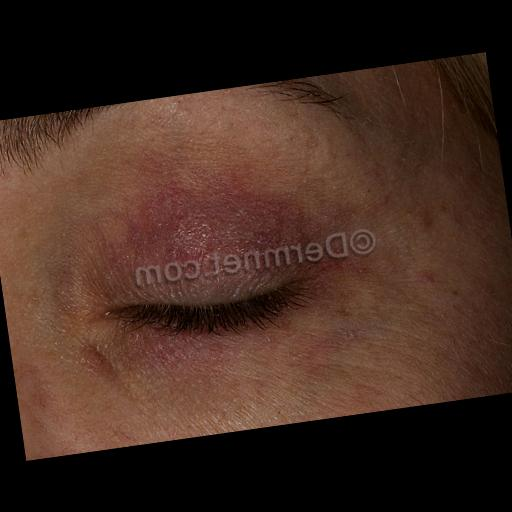Skin_Lesion: (138, 193, 220, 266), (250, 200, 318, 266), (218, 193, 251, 242), (412, 203, 436, 231)
